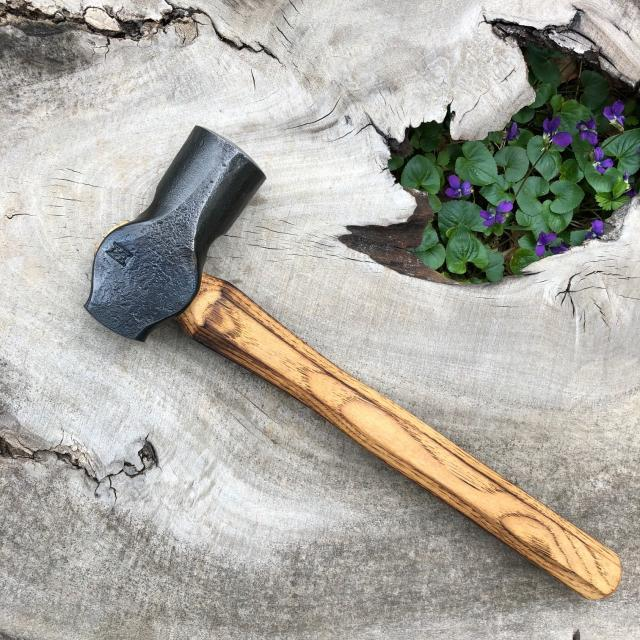hammer: (77, 116, 625, 604)
